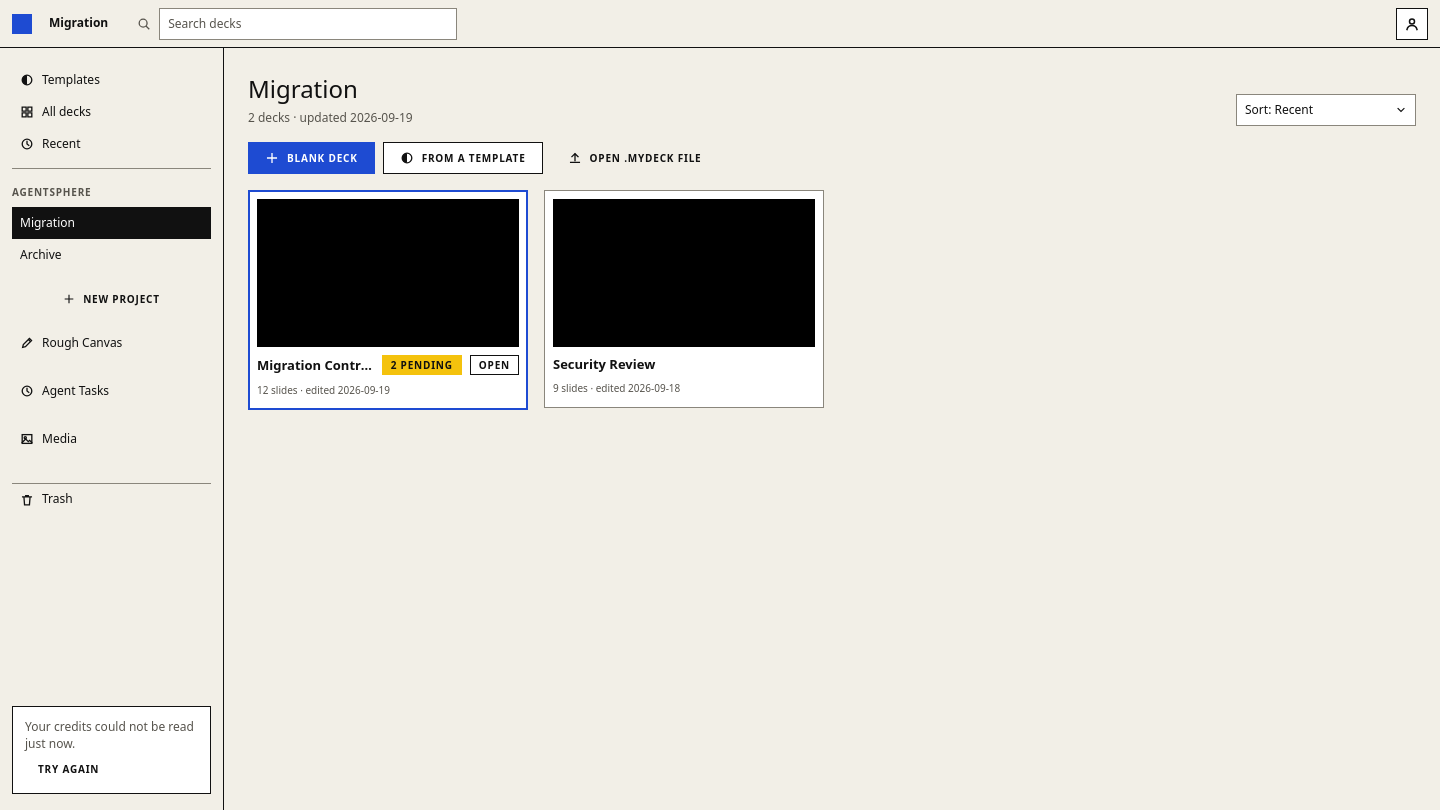
Scenario: DeckList › filters by search without asking the server again
Type "security" into the search field labelled "Search decks" at [308, 24], box [159, 8, 457, 40]
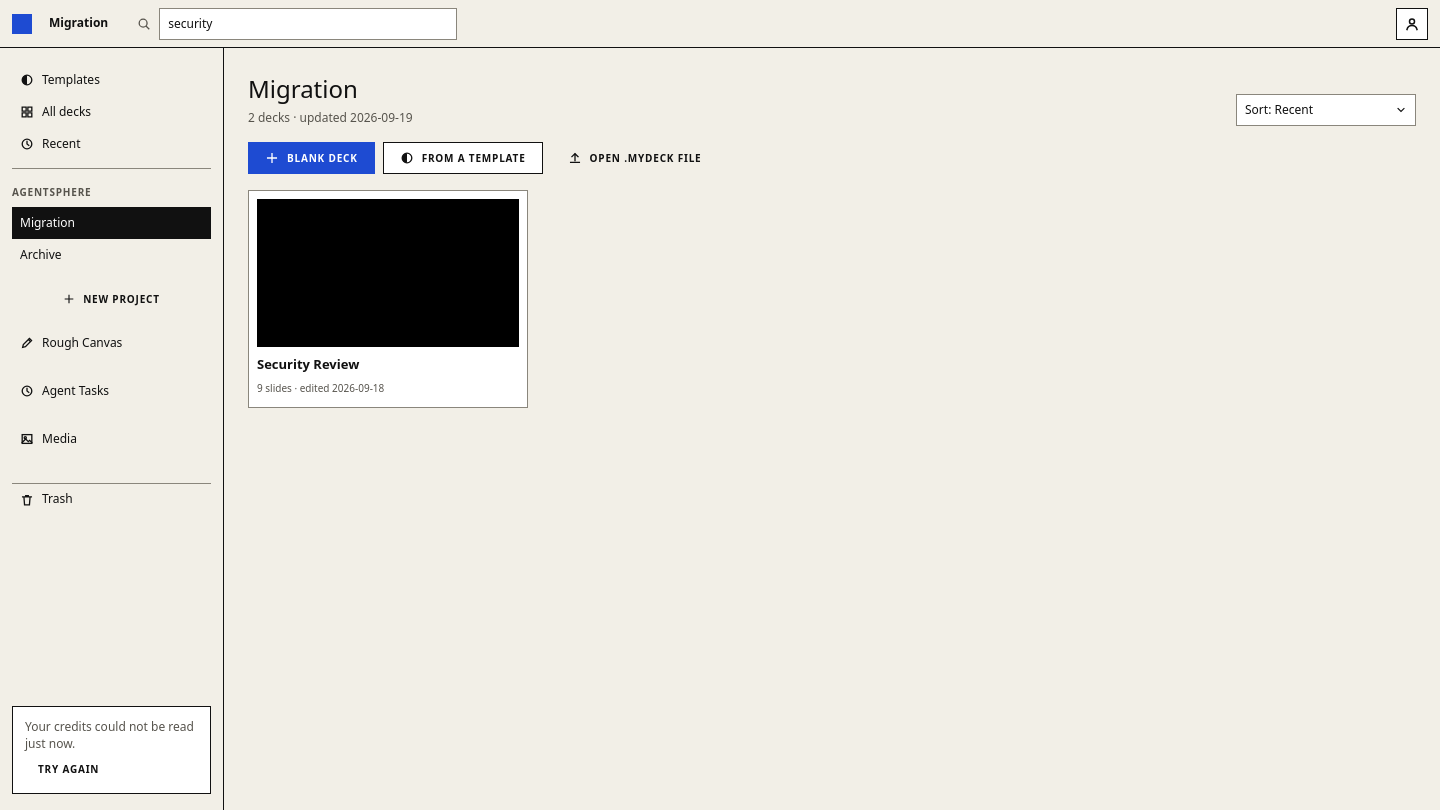
Result: the number of elements with test id "deck-card" is 1 at [248, 190, 528, 408]
